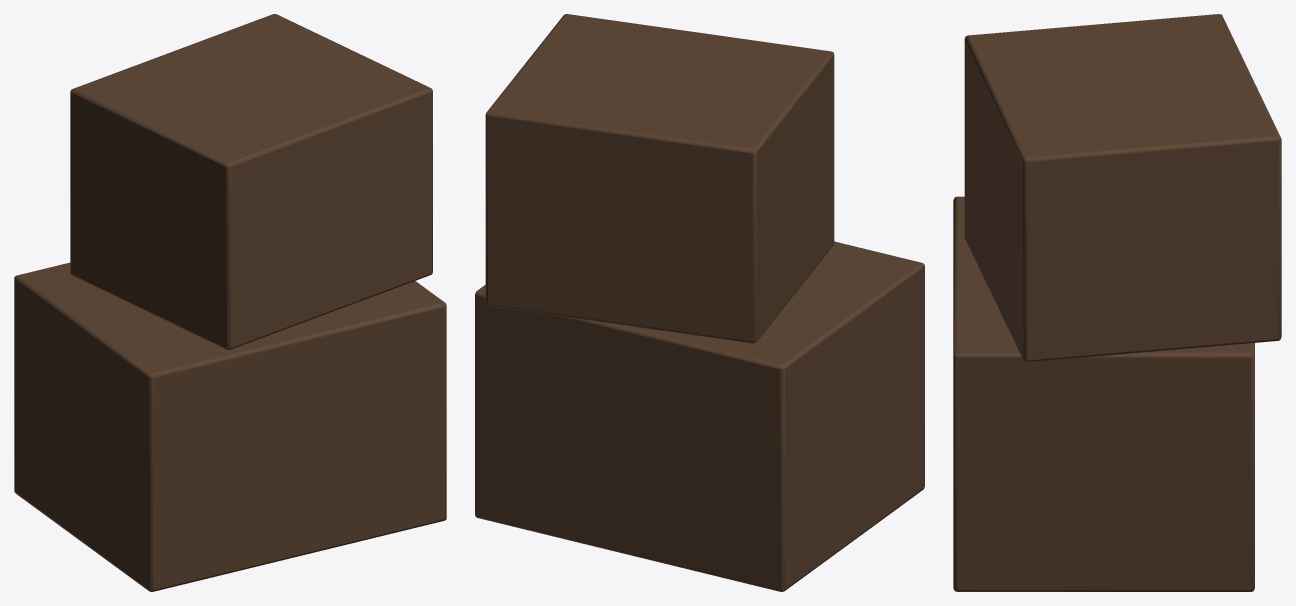
The model's file is SM_F_Crate_Stack.fbx.
The picture shows the model from 3 angles, left to right: view 1: azimuth 30°, elevation 25°; view 2: azimuth 150°, elevation 25°; view 3: azimuth 270°, elevation 25°; orthographic projection. The views are drawn at different scales.
Parts seen in each view (by area): view 1: SM_F_Crate_Stack__Body; view 2: SM_F_Crate_Stack__Body; view 3: SM_F_Crate_Stack__Body.
Boxes of the visible parts, x1,y1,x2,y2 form: SM_F_Crate_Stack__Body: (14, 14, 446, 591); SM_F_Crate_Stack__Body: (475, 14, 924, 591); SM_F_Crate_Stack__Body: (953, 14, 1281, 591).
Bounding box in the file's own units: 1.06 × 1.3 × 0.8705.
